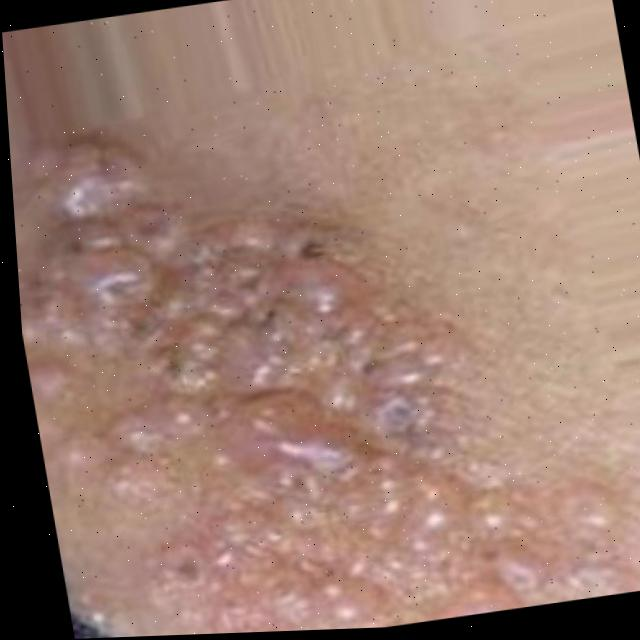Shingles: (8, 94, 574, 640)
